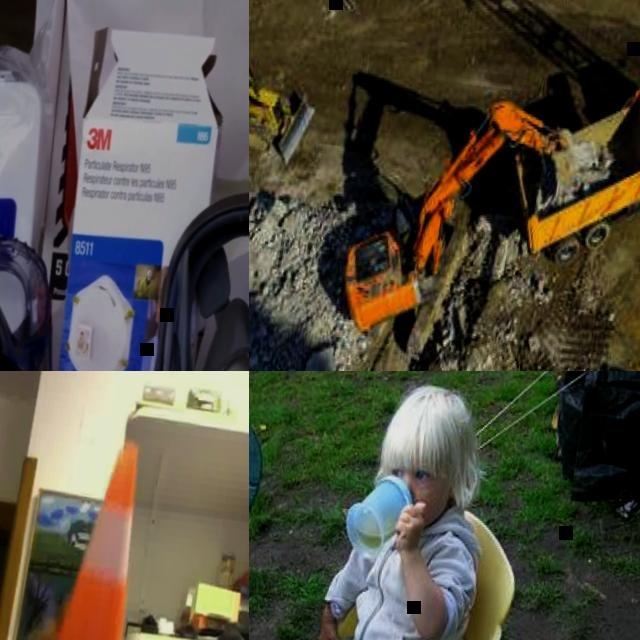Mask: (126, 183, 249, 371)
NO-Hardhat: (377, 382, 484, 477)
NO-Mask: (398, 481, 452, 523)
NO-Safety Vest: (342, 513, 474, 640)
Person: (249, 371, 507, 640)
Safety Cone: (26, 420, 174, 640)
machinery: (318, 75, 584, 371), (492, 43, 640, 291), (249, 44, 321, 168)
